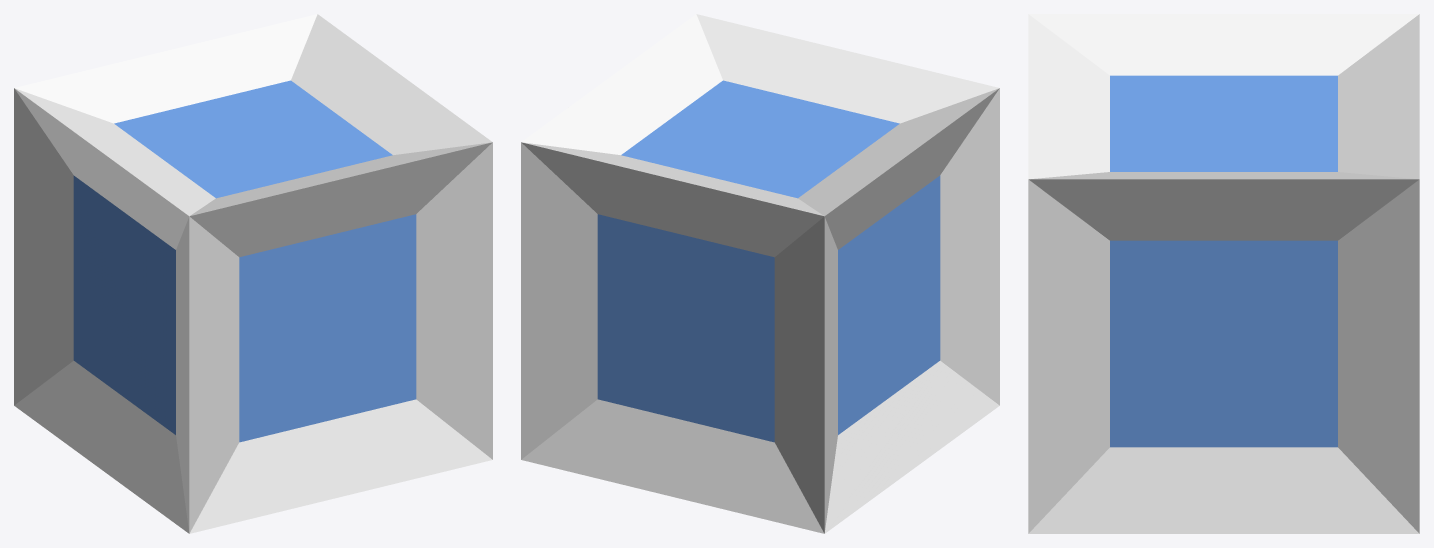
File: transparentDemo.glb
3 renders of one model, left to right at view 1: azimuth 30°, elevation 25°; view 2: azimuth 150°, elevation 25°; view 3: azimuth 270°, elevation 25°, orthographic. The views are drawn at different scales.
Parts seen in each view (by area): view 1: Cube, Cube.001; view 2: Cube, Cube.001; view 3: Cube, Cube.001.
Boxes of the visible parts, x1=… form: Cube: x1=14, y1=14, x2=492, y2=533; Cube.001: x1=73, y1=80, x2=416, y2=442; Cube: x1=521, y1=14, x2=999, y2=533; Cube.001: x1=597, y1=80, x2=940, y2=442; Cube: x1=1028, y1=14, x2=1419, y2=533; Cube.001: x1=1110, y1=75, x2=1337, y2=447.
Bounding box in the file's own units: 0.727 × 0.727 × 0.727.
